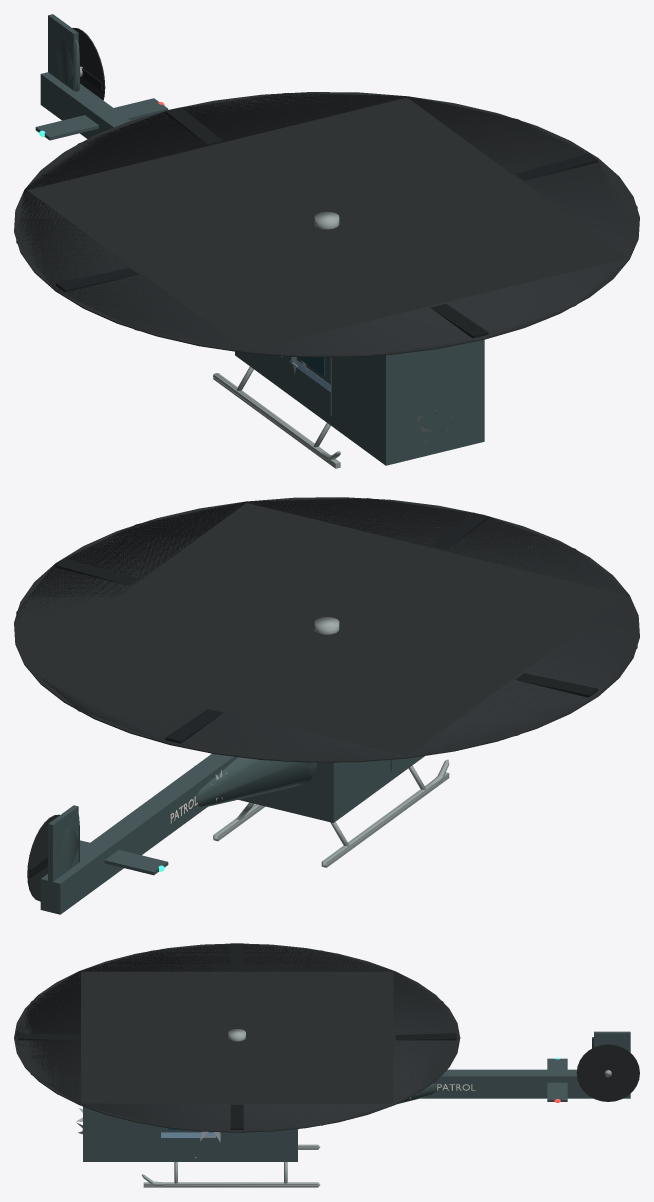
The model's file is oc_police_heli_01.glb.
3 renders of one model, top to bottom at view 1: azimuth 30°, elevation 25°; view 2: azimuth 150°, elevation 25°; view 3: azimuth 270°, elevation 25°, orthographic. The views are drawn at different scales.
Parts seen in each view (by area): view 1: LOD3_OC_Rotor_Blur, LOD2_OC_Rotor_Blur, LOD3_OC_Heli_Police, Rotor_Main_Blur_OC_Rotor_Blur, Rotor_Main_OC_Rotor_Blade, LOD1_OC_Heli_Police, Door_L_OC_Heli_Police, LOD2_OC_Heli_Police, Rotor_Tail_Blur_OC_Rotor_Blur, Skid_L_OC_Brushed_Metal, LOD2_OC_Brushed_Metal; view 2: LOD3_OC_Rotor_Blur, Rotor_Main_Blur_OC_Rotor_Blur, LOD2_OC_Rotor_Blur, LOD3_OC_Heli_Police, LOD2_OC_Heli_Police, Rotor_Main_OC_Rotor_Blade, LOD1_OC_Heli_Police, LOD2_OC_Brushed_Metal, Skid_L_OC_Brushed_Metal, Rotor_Tail_Blur_OC_Rotor_Blur; view 3: LOD3_OC_Rotor_Blur, LOD2_OC_Rotor_Blur, LOD3_OC_Heli_Police, Rotor_Main_Blur_OC_Rotor_Blur, Rotor_Tail_Blur_OC_Rotor_Blur, Rotor_Main_OC_Rotor_Blade, Door_R_OC_Heli_Police, LOD2_OC_Brushed_Metal, Skid_R_OC_Brushed_Metal, LOD1_OC_Heli_Police, LOD2_OC_Heli_Police.
Boxes of the visible parts, x1,y1,x2,y2 form: LOD3_OC_Rotor_Blur: (27, 97, 626, 350); LOD2_OC_Rotor_Blur: (16, 93, 637, 356); LOD3_OC_Heli_Police: (40, 72, 484, 465); Rotor_Main_Blur_OC_Rotor_Blur: (14, 92, 639, 357); Rotor_Main_OC_Rotor_Blade: (56, 107, 597, 338); LOD1_OC_Heli_Police: (35, 17, 437, 414); Door_L_OC_Heli_Police: (291, 357, 331, 415); LOD2_OC_Heli_Police: (48, 14, 436, 413); Rotor_Tail_Blur_OC_Rotor_Blur: (72, 27, 105, 100); Skid_L_OC_Brushed_Metal: (213, 366, 340, 460); LOD2_OC_Brushed_Metal: (213, 373, 340, 468); LOD3_OC_Rotor_Blur: (27, 503, 626, 755); Rotor_Main_Blur_OC_Rotor_Blur: (14, 497, 639, 762); LOD2_OC_Rotor_Blur: (16, 498, 637, 761); LOD3_OC_Heli_Police: (40, 753, 424, 914); LOD2_OC_Heli_Police: (48, 757, 312, 891); Rotor_Main_OC_Rotor_Blade: (56, 512, 597, 743); LOD1_OC_Heli_Police: (50, 762, 316, 889); LOD2_OC_Brushed_Metal: (213, 772, 449, 867); Skid_L_OC_Brushed_Metal: (321, 759, 449, 867); Rotor_Tail_Blur_OC_Rotor_Blur: (27, 814, 59, 901); LOD3_OC_Rotor_Blur: (81, 971, 393, 1103); LOD2_OC_Rotor_Blur: (14, 944, 460, 1131); LOD3_OC_Heli_Police: (83, 1069, 630, 1161); Rotor_Main_Blur_OC_Rotor_Blur: (14, 943, 460, 1132); Rotor_Tail_Blur_OC_Rotor_Blur: (576, 1044, 639, 1101); Rotor_Main_OC_Rotor_Blade: (18, 943, 456, 1129); Door_R_OC_Heli_Police: (160, 1126, 216, 1154); LOD2_OC_Brushed_Metal: (143, 1144, 318, 1187); Skid_R_OC_Brushed_Metal: (142, 1162, 320, 1186); LOD1_OC_Heli_Police: (298, 1032, 623, 1129); LOD2_OC_Heli_Police: (397, 1031, 630, 1104).
Bounding box in the file's own units: 11 × 3.69 × 15.43.
